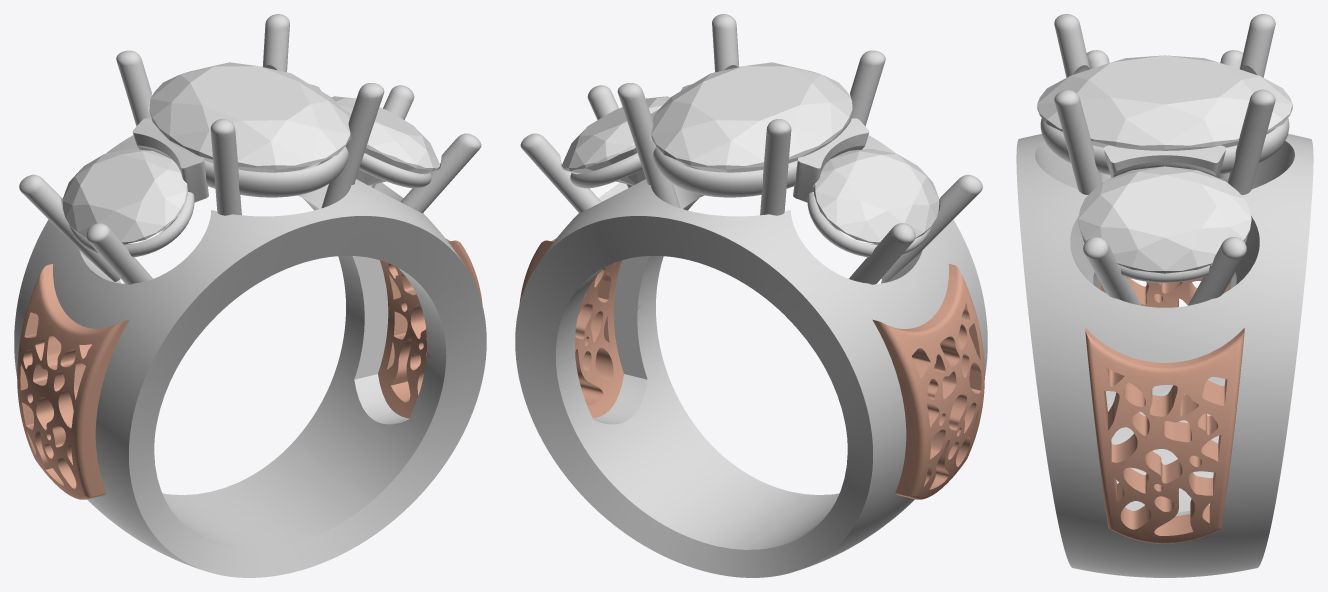
Rendered from Annie's_Birthday_blender.glb.
The picture shows the model from 3 angles, left to right: view 1: azimuth 30°, elevation 25°; view 2: azimuth 150°, elevation 25°; view 3: azimuth 270°, elevation 25°; orthographic projection. The views are drawn at different scales.
Parts seen in each view (by area): view 1: PT ring, RG sides, diamonds.002, diamonds.001, diamonds; view 2: PT ring, RG sides, diamonds.002, diamonds.001, diamonds; view 3: PT ring, RG sides, diamonds.002, diamonds.
Boxes of the visible parts, bbox=[...] form: PT ring: bbox=[14, 14, 486, 577]; RG sides: bbox=[17, 238, 482, 499]; diamonds.002: bbox=[149, 62, 350, 172]; diamonds.001: bbox=[62, 149, 187, 244]; diamonds: bbox=[331, 96, 440, 185]; PT ring: bbox=[515, 14, 987, 577]; RG sides: bbox=[519, 238, 984, 499]; diamonds.002: bbox=[651, 62, 852, 172]; diamonds.001: bbox=[814, 149, 939, 244]; diamonds: bbox=[562, 96, 670, 185]; PT ring: bbox=[1016, 14, 1313, 577]; RG sides: bbox=[1085, 277, 1244, 543]; diamonds.002: bbox=[1037, 55, 1292, 150]; diamonds: bbox=[1078, 166, 1251, 273].
Bounding box in the file's own units: 23.39 × 26.14 × 14.
